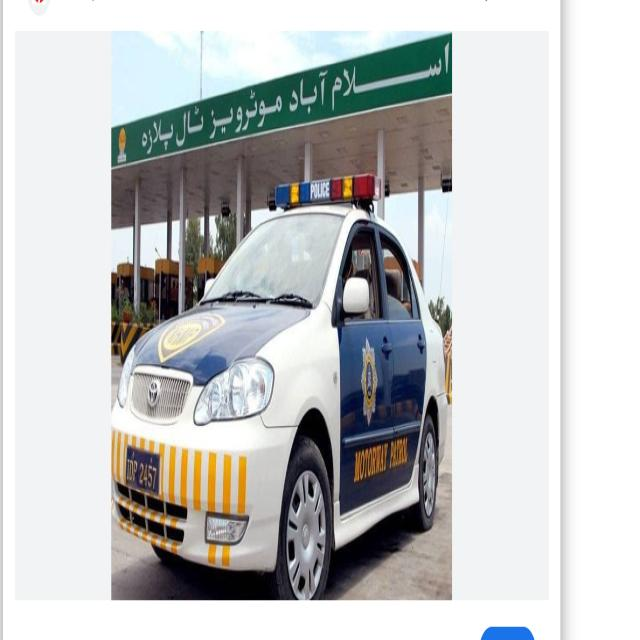police: (115, 210, 455, 588)
